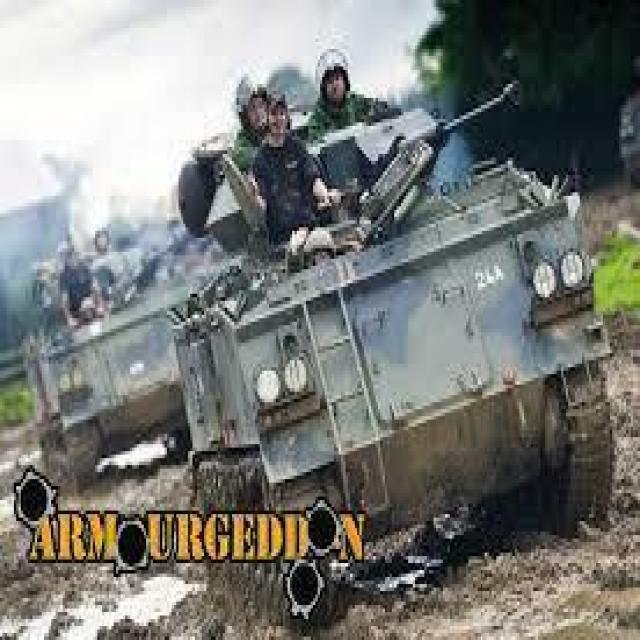Tanks: (182, 131, 616, 568), (39, 310, 204, 478)
